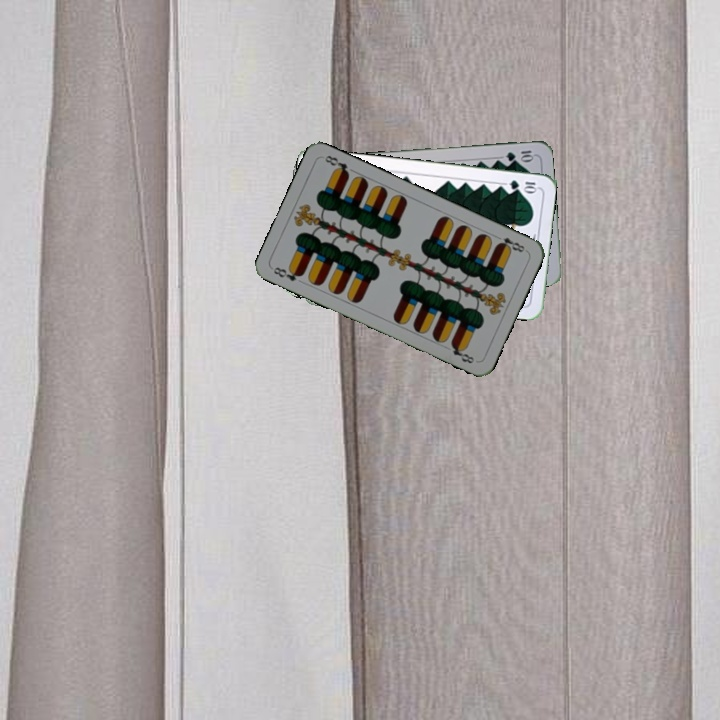E8: (491, 231, 529, 255), (269, 263, 306, 284)
G10: (505, 176, 540, 194), (502, 146, 536, 163)
